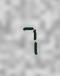seven: (19, 20, 39, 55)
